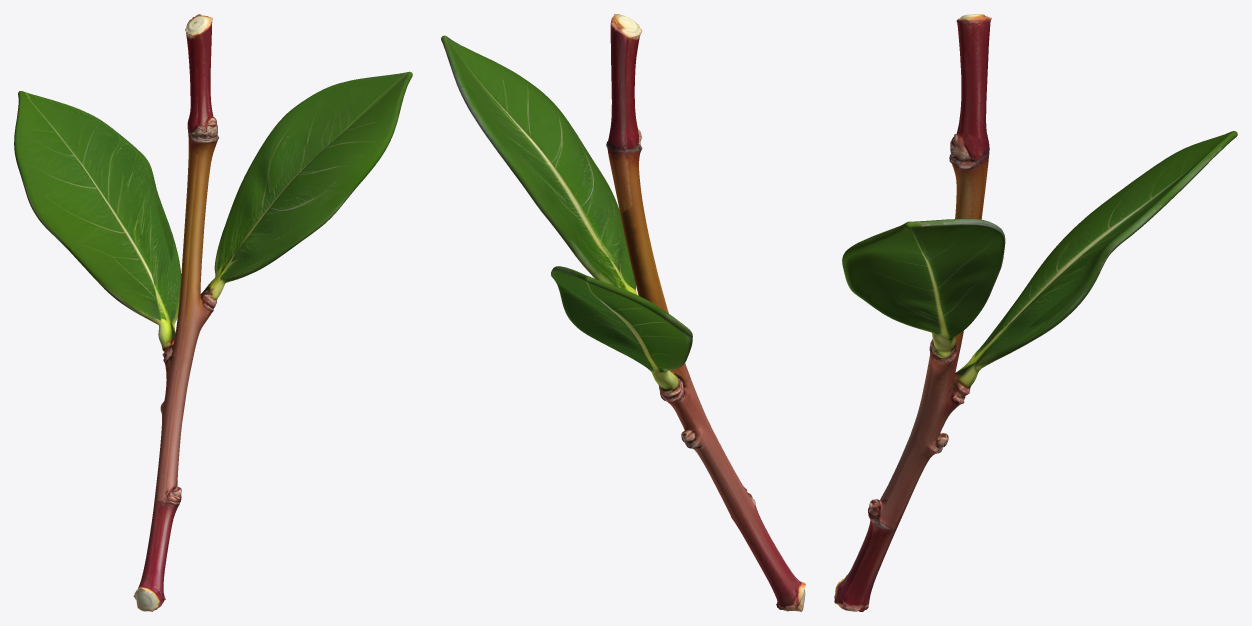
The model's file is guizhi.glb.
The picture shows the model from 3 angles, left to right: view 1: azimuth 30°, elevation 25°; view 2: azimuth 150°, elevation 25°; view 3: azimuth 270°, elevation 25°; orthographic projection. The views are drawn at different scales.
Parts seen in each view (by area): view 1: node_0; view 2: node_0; view 3: node_0.
Part boxes in pixels (x1,y1,x2,y2): node_0: (14, 14, 412, 611); node_0: (441, 14, 805, 611); node_0: (834, 14, 1237, 611).
Bounding box in the file's own units: 0.5584 × 0.9525 × 0.5303.
1 material, 1 textured.
